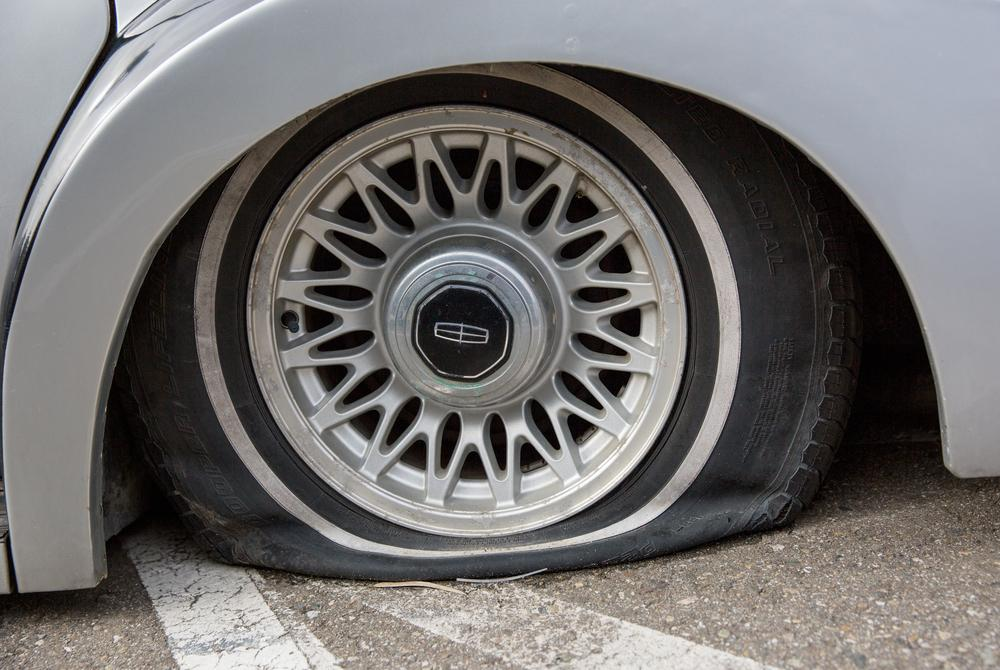tire flat: (119, 63, 868, 582)
